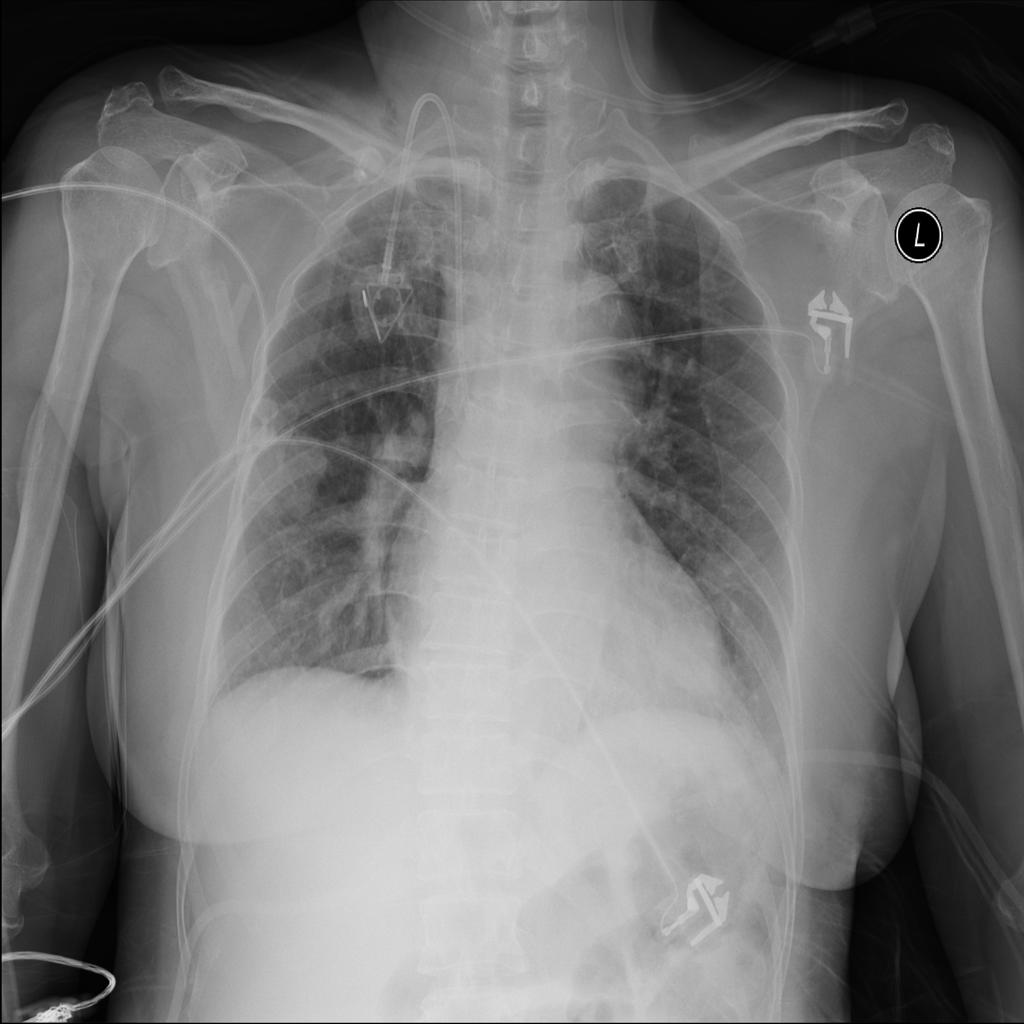nodule: (232, 407, 331, 538)
